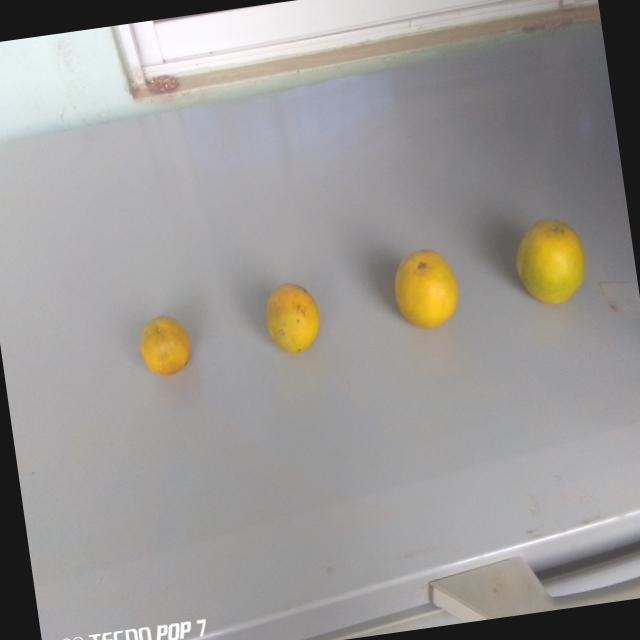agrume: (506, 211, 594, 319), (386, 244, 474, 339), (255, 276, 327, 366), (134, 310, 200, 387)
